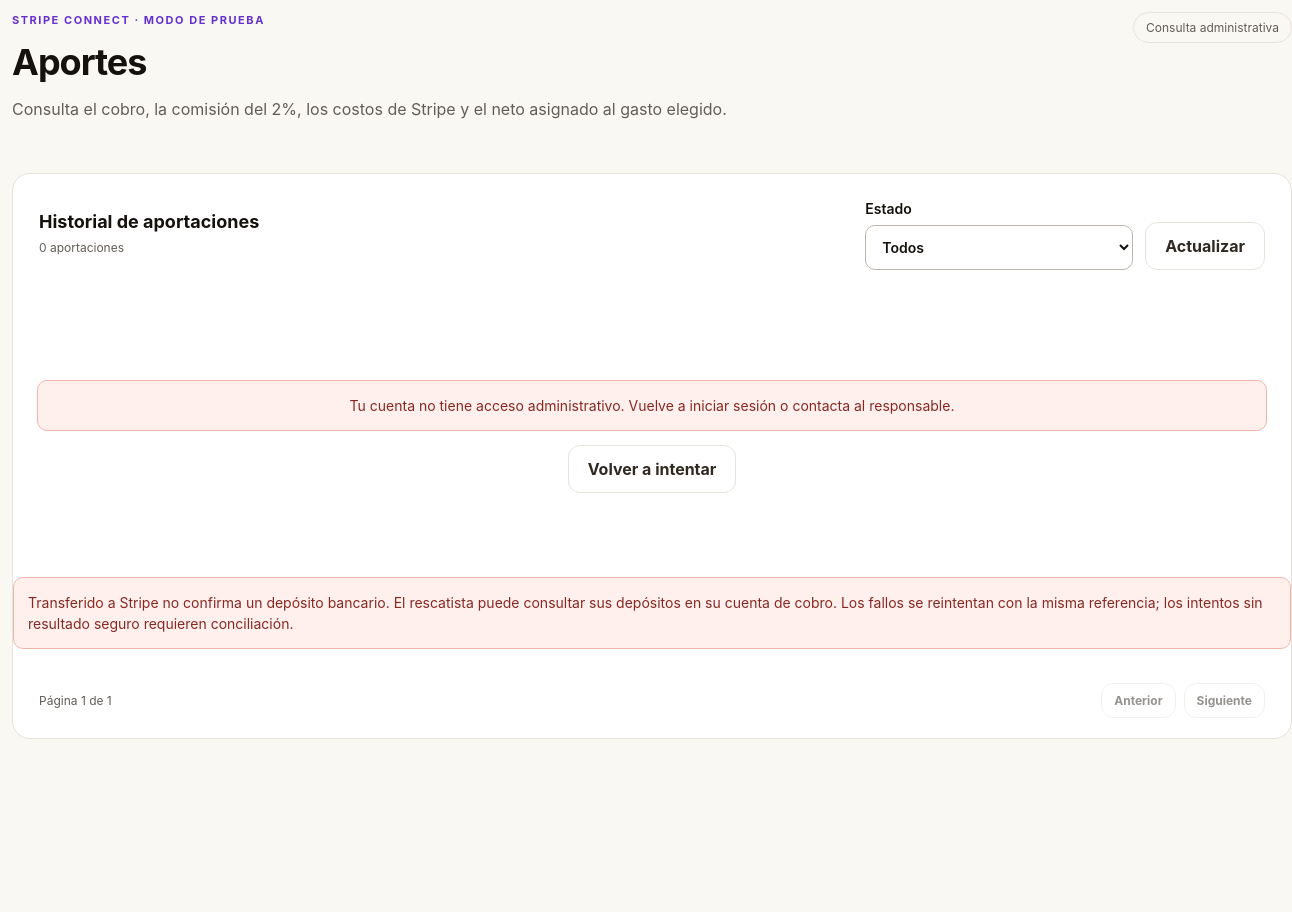
Scenario: contribuciones administrativas › muestra error de administración y vuelve a intentar
Check: the message is shown, box [37,380,1267,431]
Click the button "Volver a intentar".
click(652, 469)  # box [568,445,736,493]
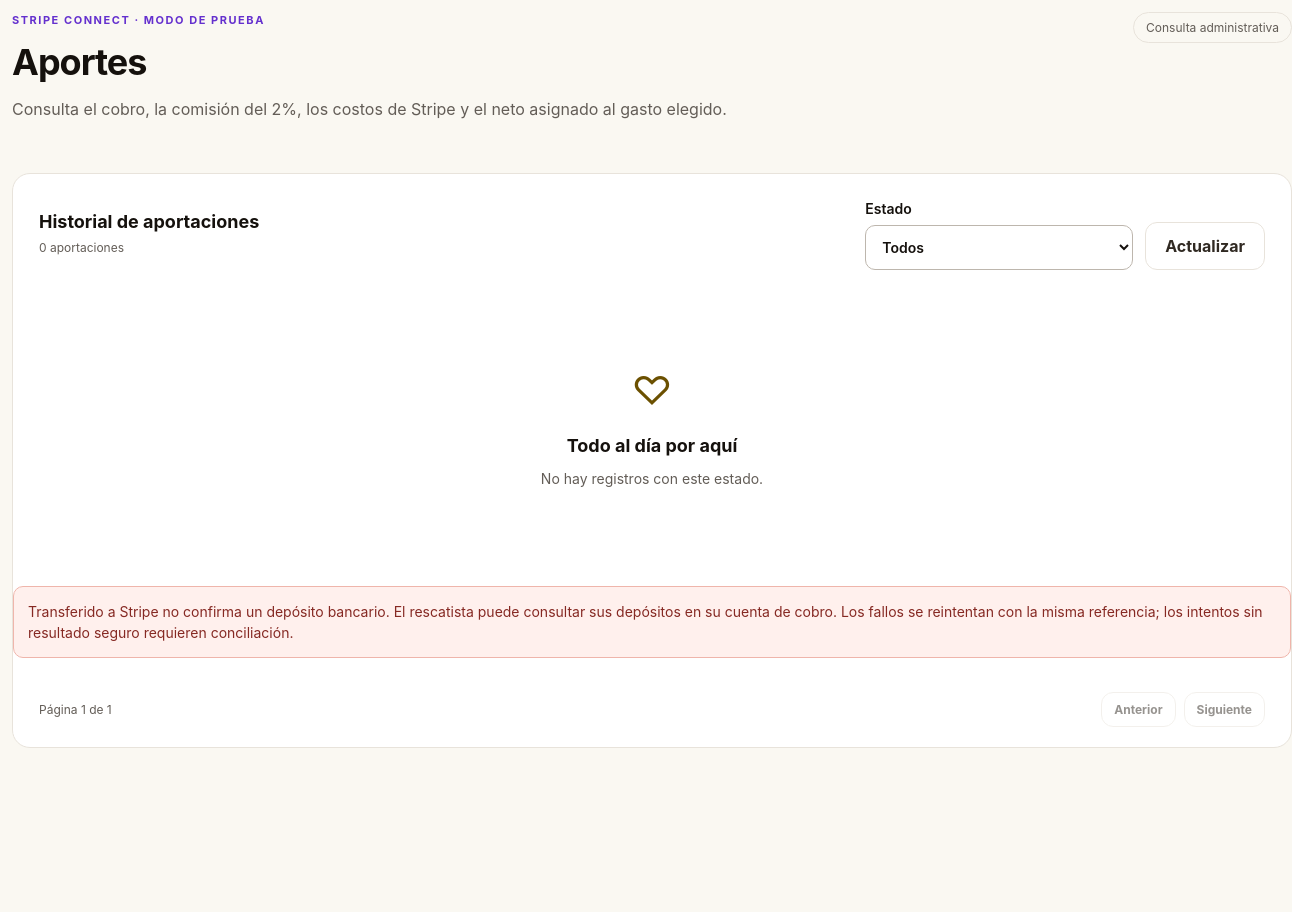
Check: the message "Tu cuenta no tiene acceso administrativo. Vuelve a iniciar sesión o contacta al" is gone
